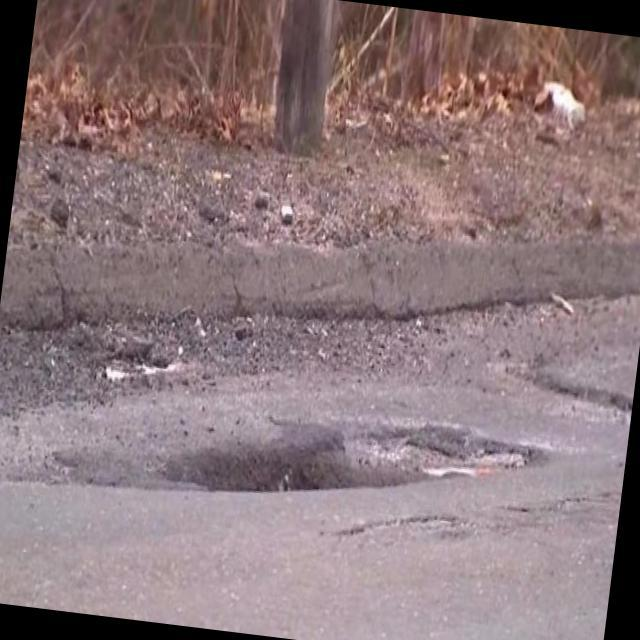Pothole: (96, 360, 554, 521)
